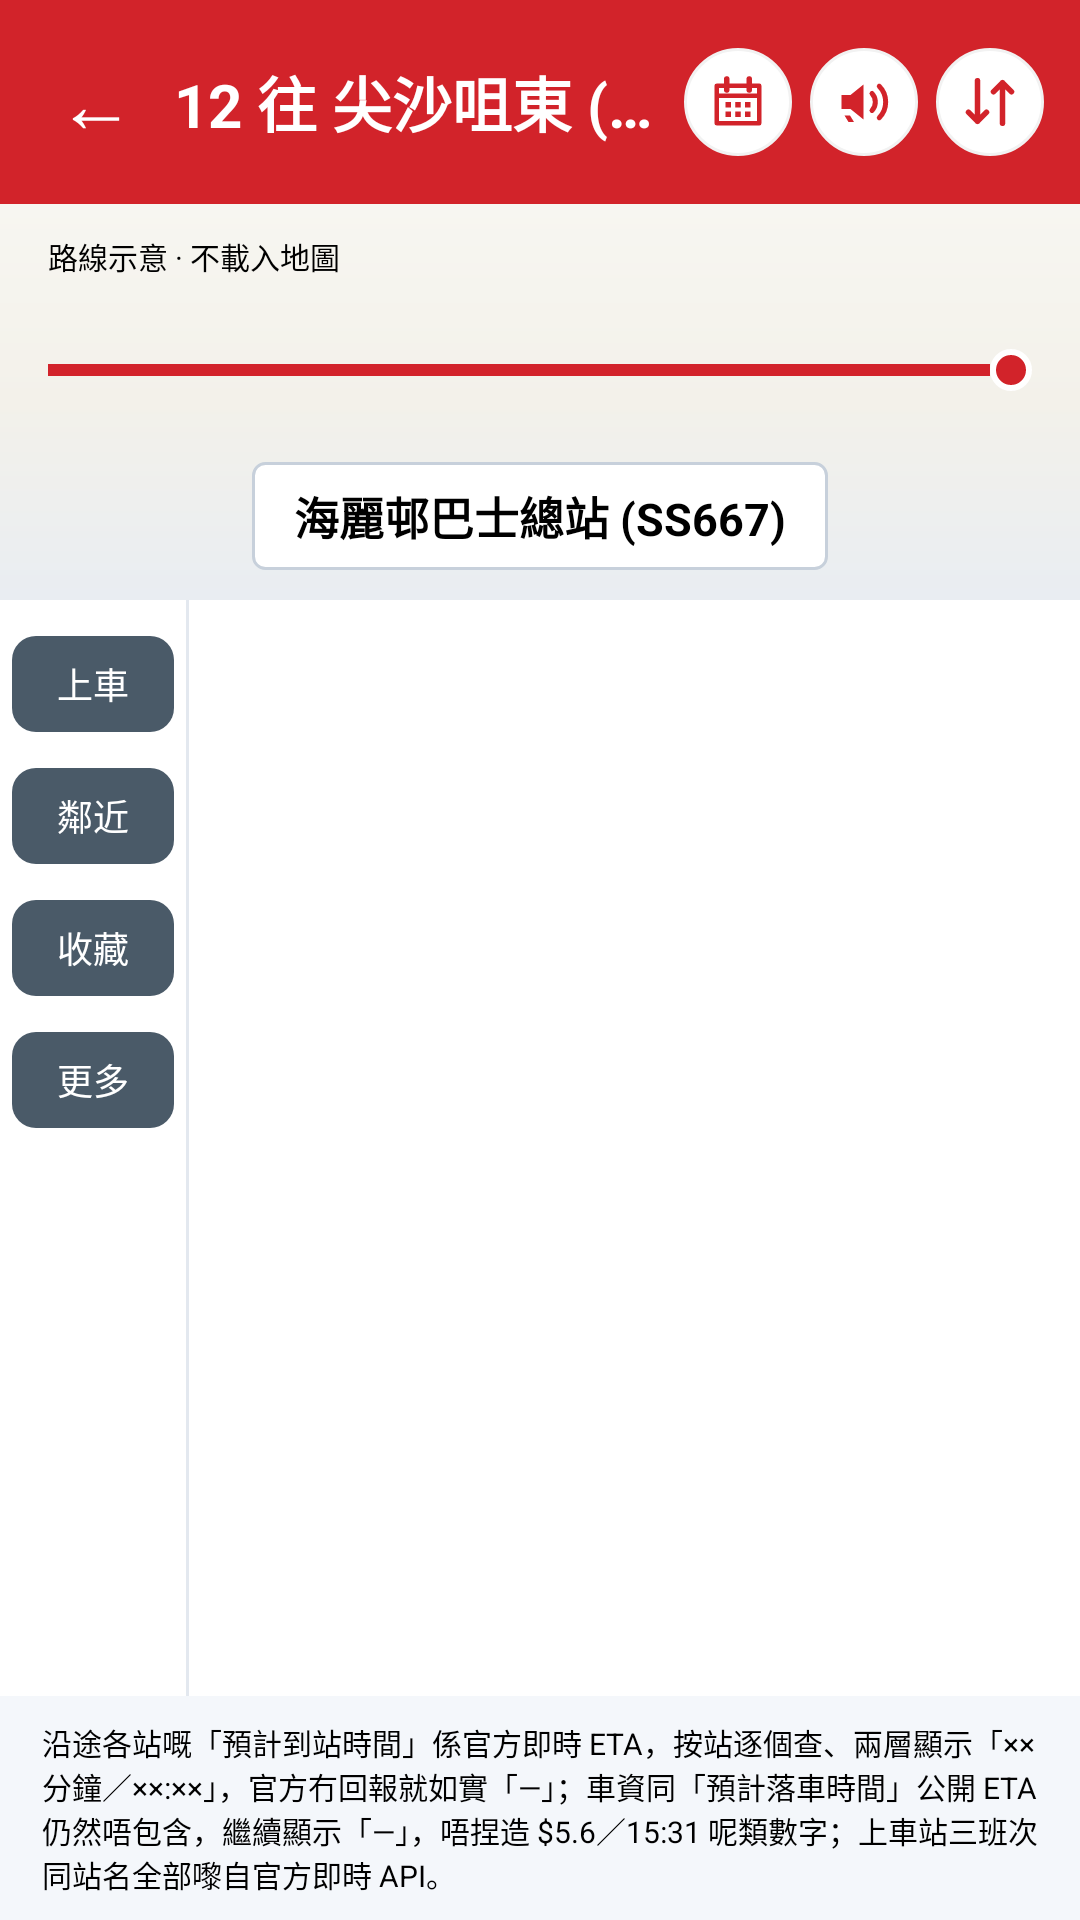

Icon bounding boxes for this 1080×1920 phone screenshot, format Rect(x1, y1, x2, y2):
服務時間及班次: Rect(684, 48, 792, 156)
服務通告: Rect(810, 48, 918, 156)
轉換路線方向: Rect(936, 48, 1044, 156)
